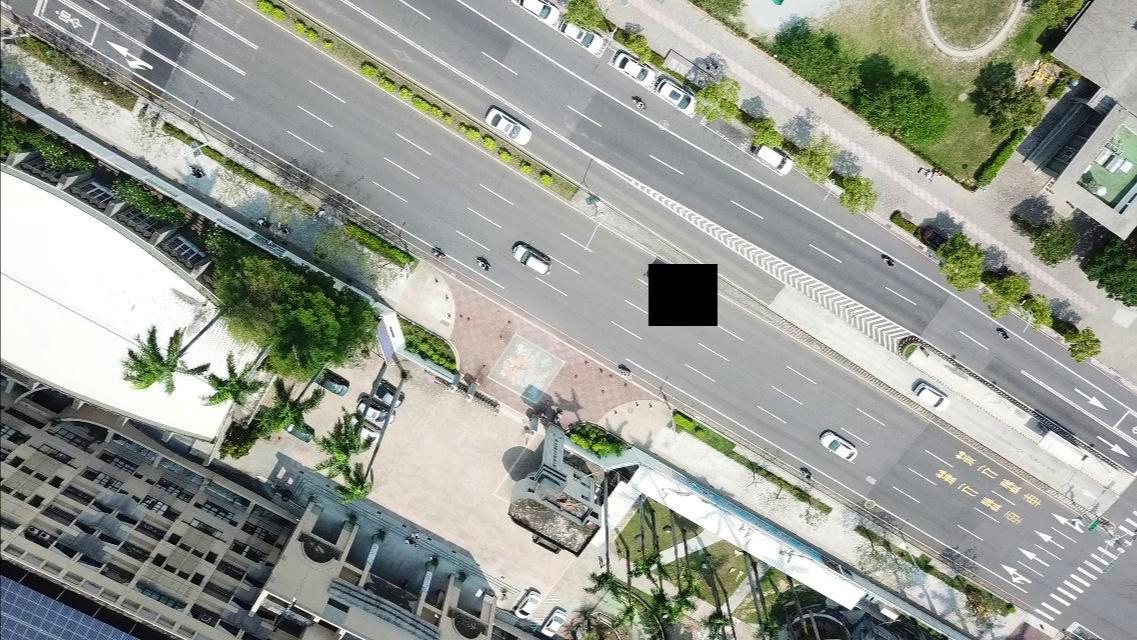vehicle: (485, 105, 530, 145), (656, 79, 698, 117), (513, 0, 559, 29), (562, 25, 606, 55), (754, 140, 790, 176), (510, 243, 548, 277), (819, 430, 857, 462), (612, 53, 653, 82), (355, 399, 394, 428), (311, 368, 348, 398), (913, 381, 947, 413), (345, 414, 378, 444), (372, 381, 404, 409), (281, 419, 315, 445), (538, 609, 567, 637), (514, 589, 540, 619)
